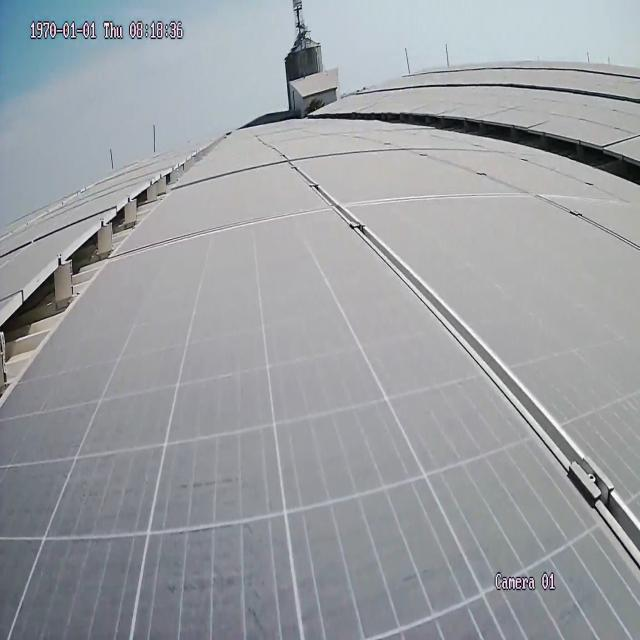interior panel: (284, 162, 637, 552)
outher panel: (0, 140, 219, 403), (354, 108, 639, 192)
